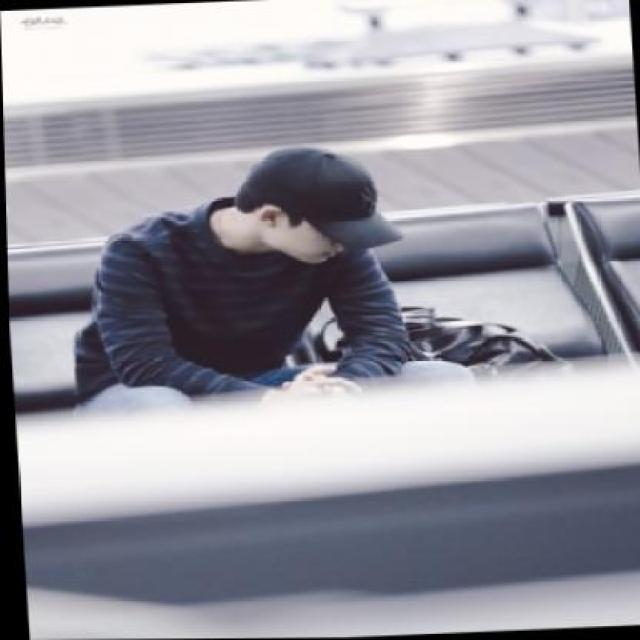hat: (228, 140, 406, 262)
